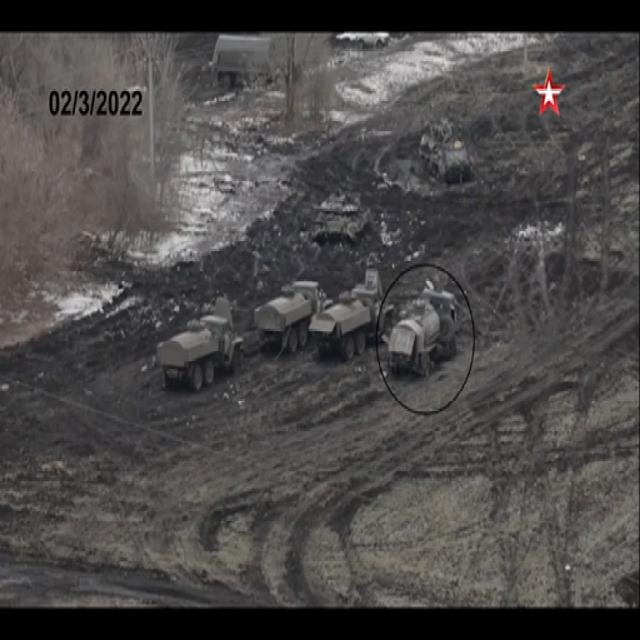APC-IFV: (416, 111, 476, 187)
TANK: (308, 187, 372, 249)
TRUCK: (154, 300, 242, 398), (309, 269, 385, 367), (386, 287, 459, 380), (252, 273, 328, 360)
